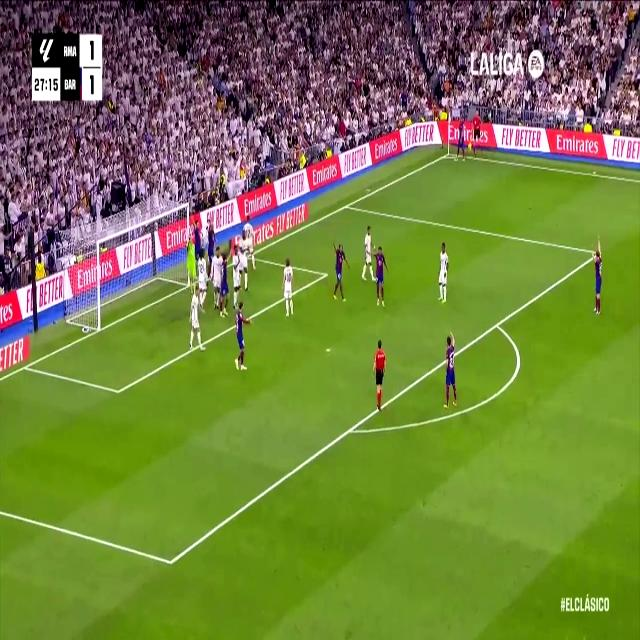bigarea_bottom_inner: (164, 544, 178, 579)
bigarea_top_outter: (343, 198, 351, 212)
bottom_arc_area_intersection: (344, 416, 356, 443)
corner: (443, 148, 453, 159)
smallarea_bottom_inner: (113, 379, 123, 403)
smallarea_bottom_outter: (22, 359, 30, 374)
smallarea_top_inner: (320, 264, 330, 284)
top_arc_area_intersection: (492, 313, 502, 334)
